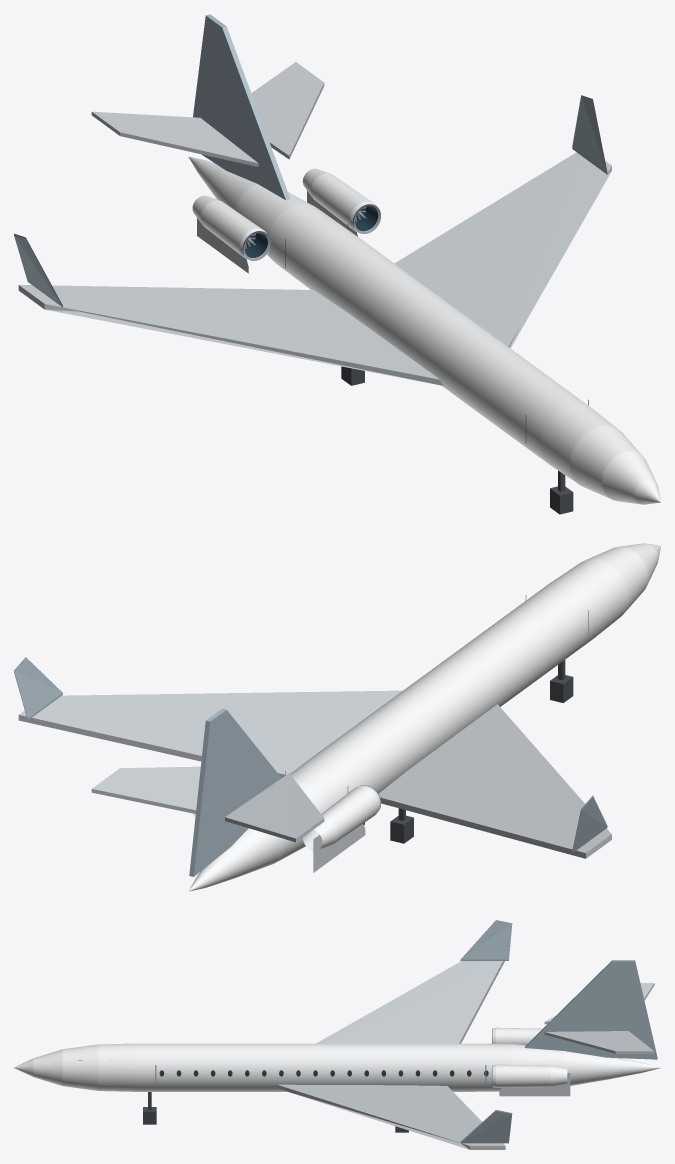
The model's file is crj-neutral-v3.gltf.
3 views of the same model, one above another, from view 1: azimuth 30°, elevation 25°; view 2: azimuth 150°, elevation 25°; view 3: azimuth 270°, elevation 25° (orthographic). The views are drawn at different scales.
Visible parts, largest first — view 1: object 1, Gear; view 2: object 1, Gear; view 3: object 1, Gear.
Part boxes in pixels (<box>): object 1: <box>14,14,660,504</box>; Gear: <box>341,366,573,514</box>; object 1: <box>14,543,660,891</box>; Gear: <box>363,660,573,843</box>; object 1: <box>14,920,660,1149</box>; Gear: <box>143,1092,408,1132</box>.
Size of the model in its own units: 25 by 9.92 by 36.
